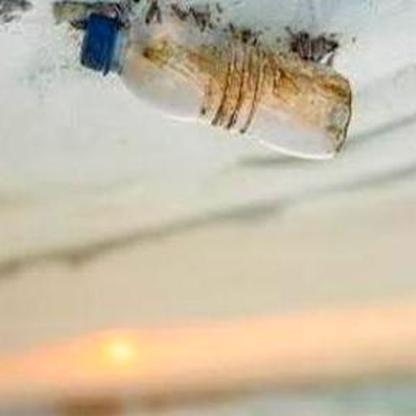plastic bottle: (79, 11, 353, 160)
